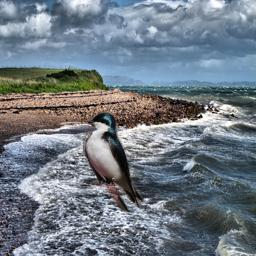Swallow: (82, 111, 144, 212)
